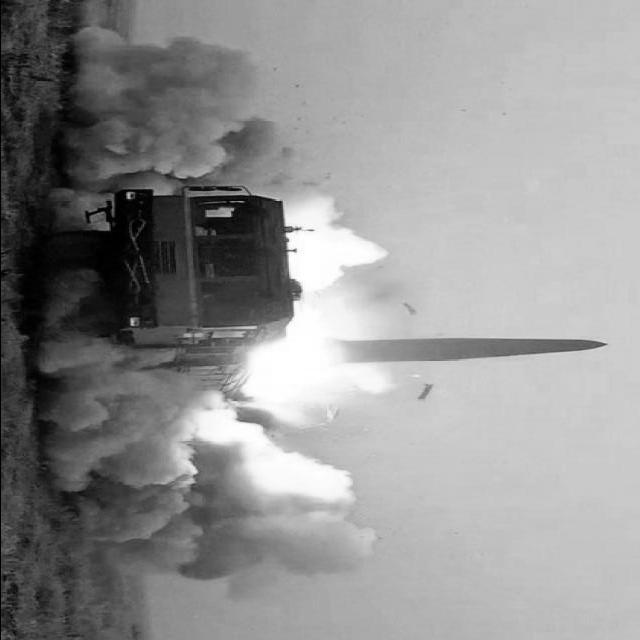Missile: (317, 333, 611, 371)
